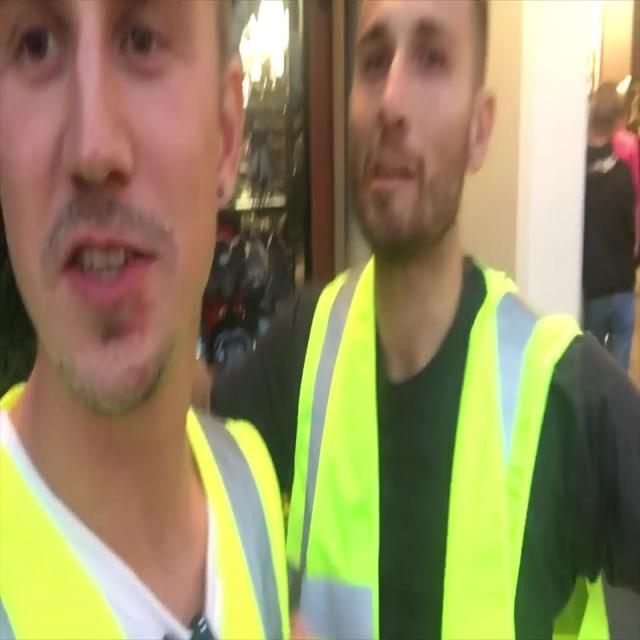Reflective-Jacket: (283, 260, 589, 630), (1, 396, 289, 639)
